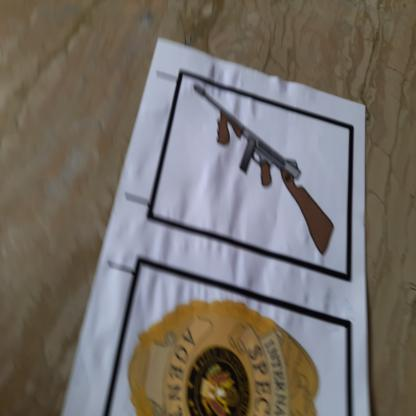Bootlegger: (175, 73, 342, 264)
G-man: (118, 293, 335, 416)
